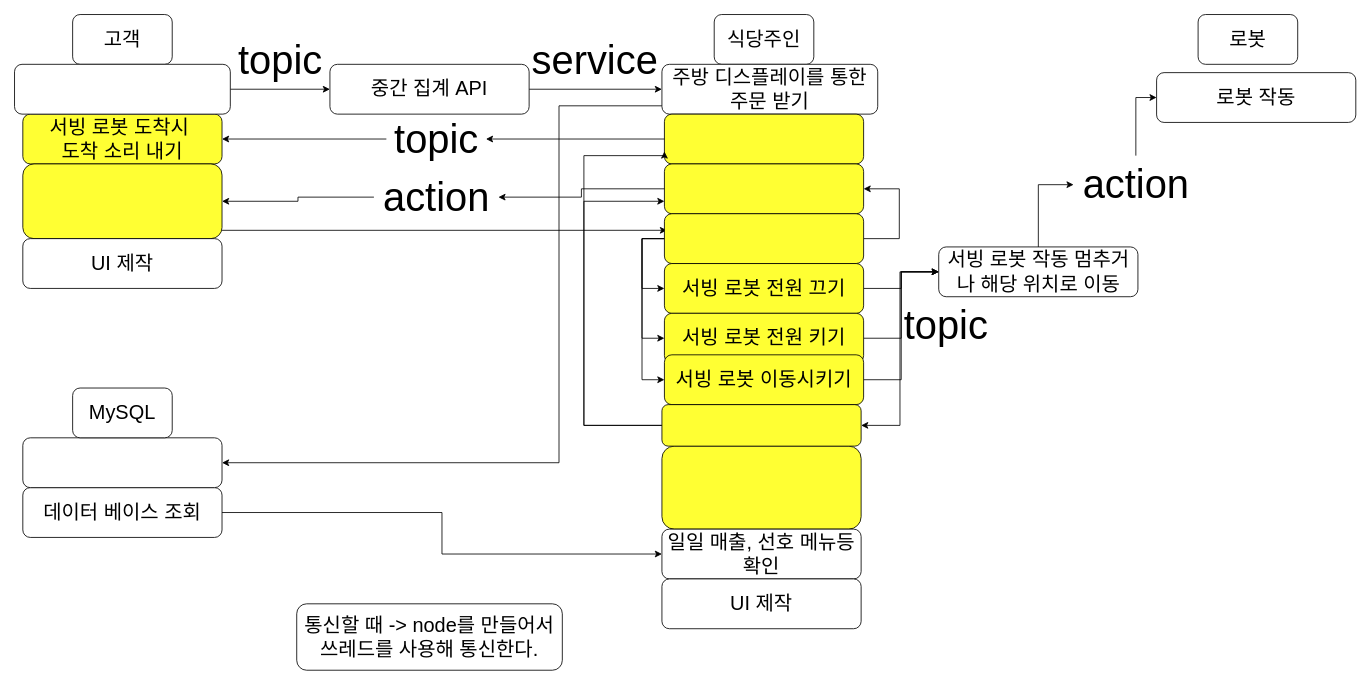
Some shapes in this 1370 by 685 pixel diagram are drawn without their labels. The shapes that lost their labels are listed below. From the top down, each one's centre as x and y in pixels, then its label:
At point 122,88: "테이블 오더를 통한 주문".
At point 764,138: "서빙 로봇 도착 확인 아림".
At point 122,201: "서빙 로봇 도착 후 UI를 닫는지 시간 초가 지났는지 트랙킹".
At point 764,188: "서빙로봇 도착 확인 알림".
At point 764,238: "서빙 로봇 경로에 따른 이동 알고리즘".
At point 761,425: "서빙 로봇 위치 트래킹".
At point 122,462: "데이터 베이스 저장".
At point 761,487: "서빙 로봇 송수신 로깅 시스템은 위 내용에 들어가 있음".
